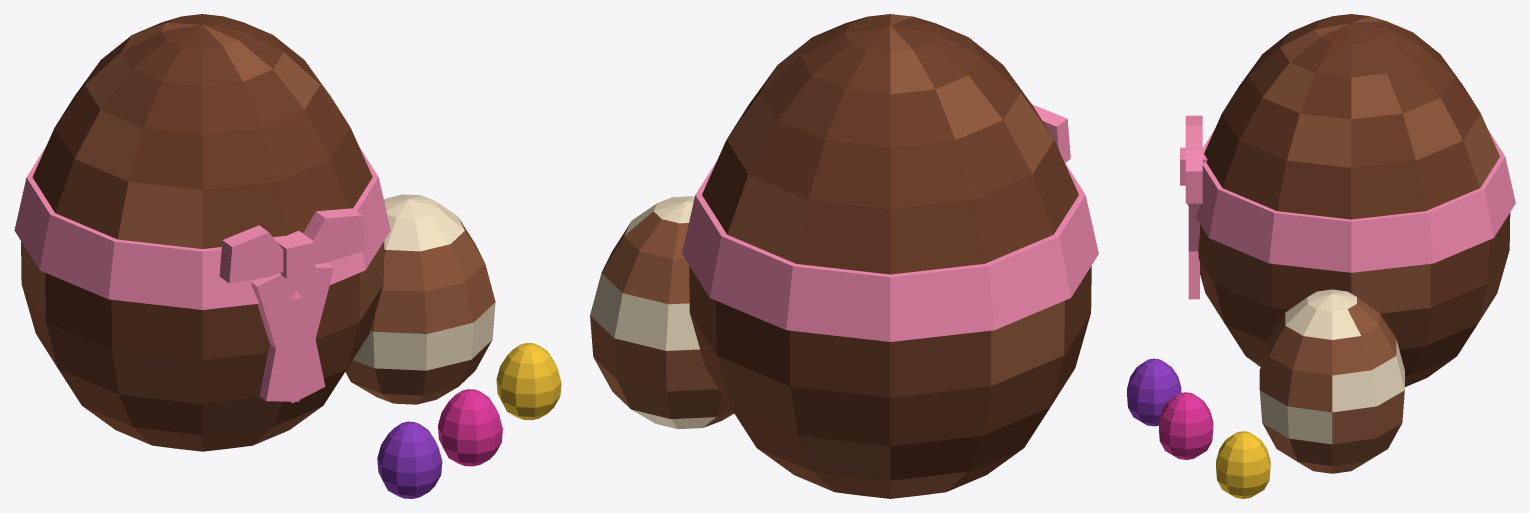
Rendered from giant-chocolate-egg-2x2.glb.
3 renders of one model, left to right at view 1: azimuth 30°, elevation 25°; view 2: azimuth 150°, elevation 25°; view 3: azimuth 270°, elevation 25°, orthographic. The views are drawn at different scales.
Parts seen in each view (by area): view 1: giant-chocolate-egg-2x2; view 2: giant-chocolate-egg-2x2; view 3: giant-chocolate-egg-2x2.
Part boxes in pixels (<box>): giant-chocolate-egg-2x2: <box>14,14,561,498</box>; giant-chocolate-egg-2x2: <box>590,14,1098,498</box>; giant-chocolate-egg-2x2: <box>1127,14,1515,498</box>.
Size of the model in its own units: 1.8 by 1.55 by 1.52.
1 material, 1 textured.
